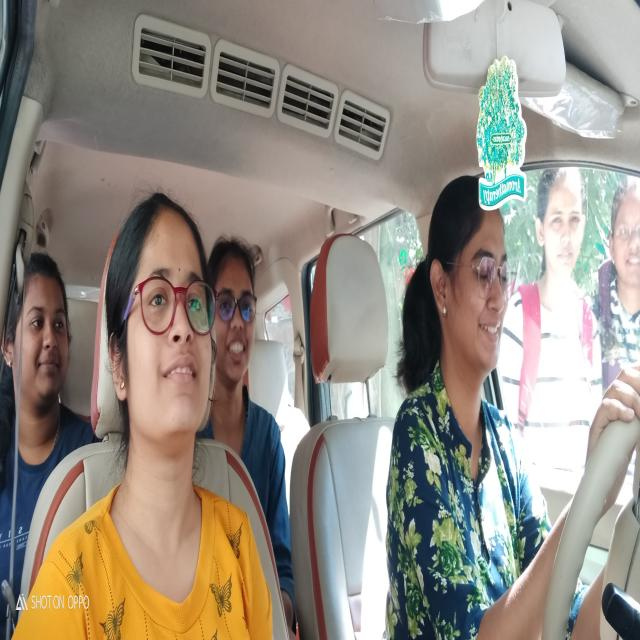drowsy: (444, 159, 523, 410)
person: (104, 180, 217, 470), (19, 222, 78, 422), (206, 222, 263, 408)
